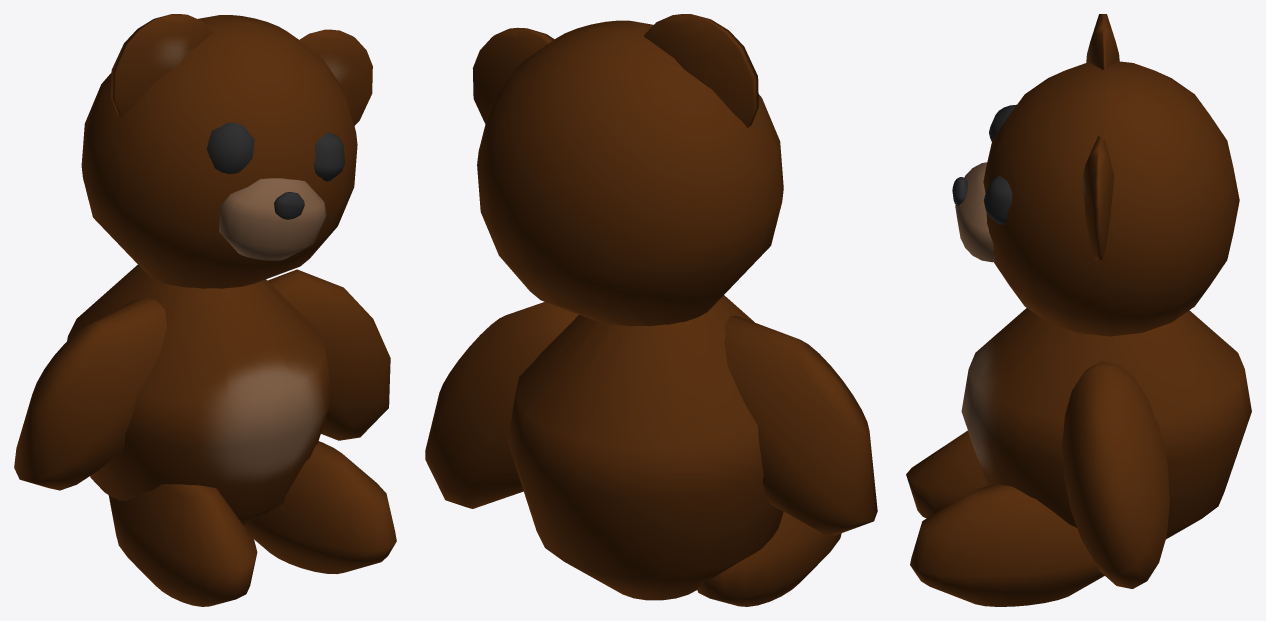
File: teddy.fbx
3 views of the same model, side by side, from view 1: azimuth 30°, elevation 25°; view 2: azimuth 150°, elevation 25°; view 3: azimuth 270°, elevation 25° (orthographic). The views are drawn at different scales.
Visible parts, largest first — view 1: eyes_and_nose1; view 2: eyes_and_nose1; view 3: eyes_and_nose1.
Part boxes in pixels (x1,y1,x2,y2): eyes_and_nose1: (14, 14, 396, 606); eyes_and_nose1: (425, 14, 877, 606); eyes_and_nose1: (906, 14, 1251, 606).
Bounding box in the file's own units: 2.28 × 3.08 × 1.81.
